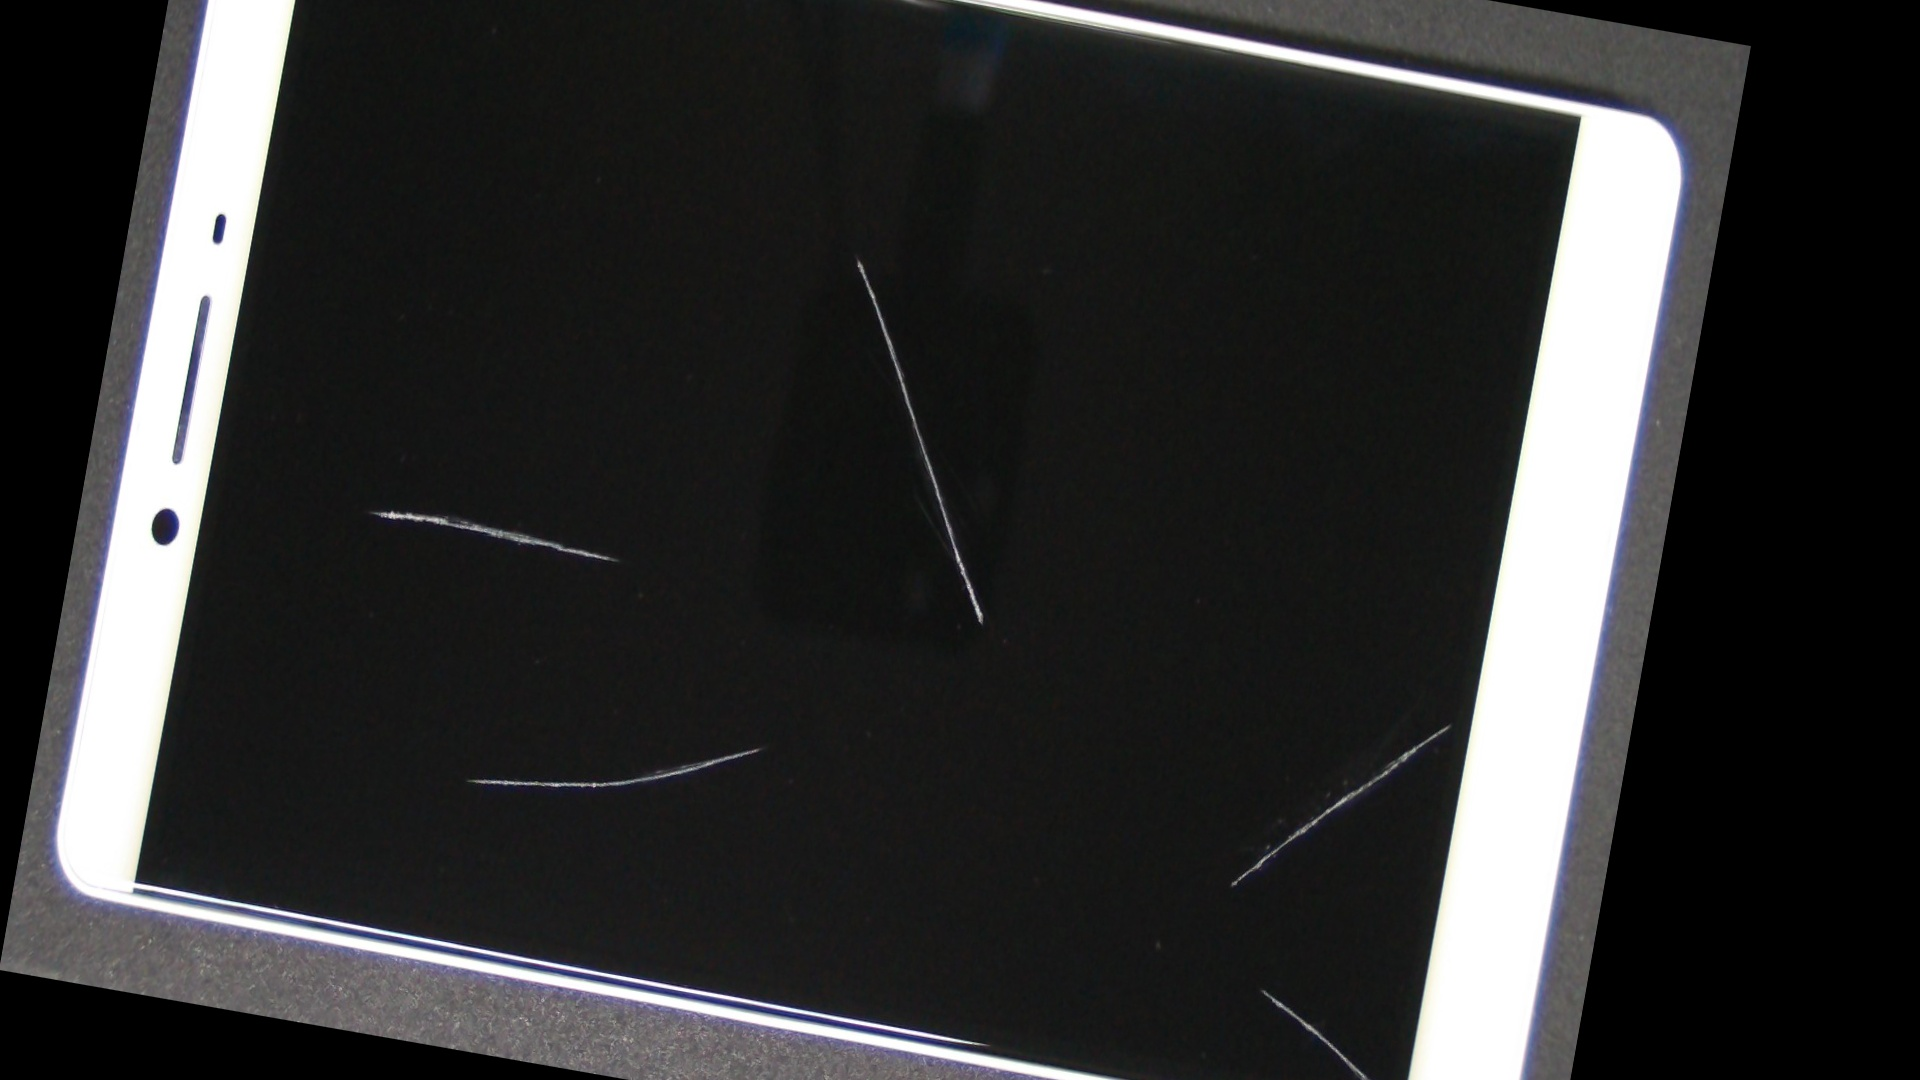oil: (707, 249, 1689, 1080), (615, 382, 1664, 1080), (349, 261, 1183, 1080), (469, 16, 1242, 498), (208, 145, 680, 885)
